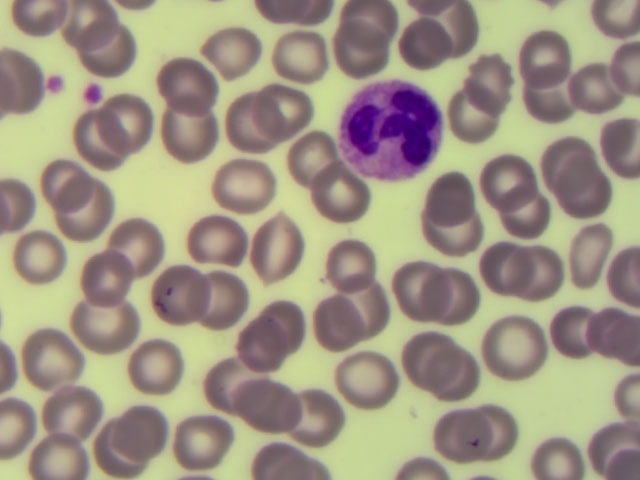Platelets: (42, 74, 71, 96), (79, 82, 106, 103)
RBC: (25, 417, 87, 480), (86, 417, 148, 480), (578, 417, 640, 480), (522, 417, 584, 480), (79, 15, 141, 77), (103, 88, 165, 150), (69, 108, 131, 170), (34, 150, 96, 212), (60, 183, 122, 245), (6, 232, 68, 294), (77, 243, 139, 305), (107, 215, 169, 277), (72, 290, 134, 352), (20, 327, 82, 389), (41, 377, 103, 439), (122, 397, 184, 459), (127, 335, 189, 397), (139, 267, 201, 329), (187, 265, 249, 327), (183, 212, 245, 274), (246, 221, 308, 283), (218, 155, 280, 217), (218, 89, 280, 151), (254, 79, 316, 141), (203, 18, 265, 80), (155, 46, 217, 108), (161, 98, 223, 160), (276, 27, 338, 89), (319, 22, 381, 84), (341, 1, 403, 63), (389, 12, 451, 74), (419, 4, 481, 66), (461, 49, 523, 111), (450, 83, 512, 145), (481, 143, 543, 205), (506, 189, 568, 251), (531, 125, 593, 187), (560, 168, 622, 230), (568, 55, 630, 117), (524, 69, 586, 131), (517, 28, 579, 90), (559, 219, 621, 281), (518, 236, 580, 298), (471, 240, 533, 302), (415, 205, 477, 267), (423, 167, 485, 229), (381, 262, 443, 324), (424, 265, 486, 327), (327, 228, 389, 290), (316, 169, 378, 231), (285, 126, 347, 188), (339, 271, 401, 333), (302, 298, 364, 360), (263, 283, 325, 345), (231, 309, 293, 371), (201, 351, 263, 413), (230, 374, 292, 436), (277, 386, 339, 448), (341, 354, 403, 416), (393, 328, 455, 390), (429, 345, 491, 407), (473, 316, 535, 378), (536, 301, 598, 363), (572, 312, 634, 374), (466, 394, 528, 456), (426, 403, 488, 465), (176, 410, 238, 472)
WBC: (335, 76, 445, 187)
